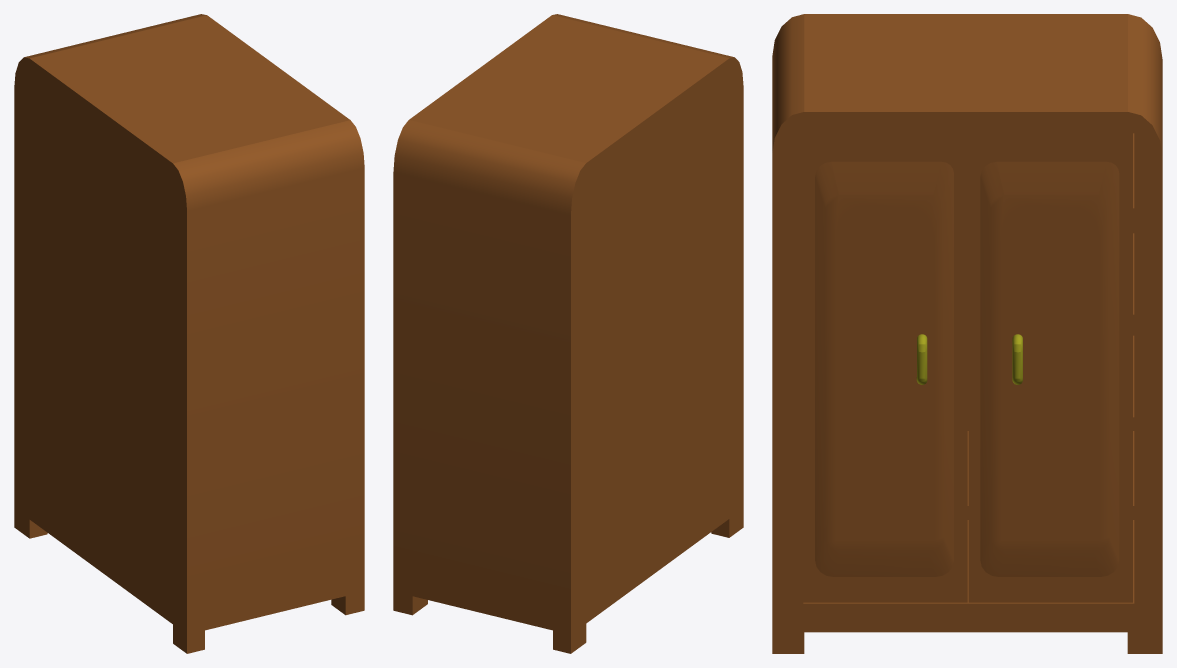
The model's file is Wardrobe.fbx.
3 views of the same model, side by side, from view 1: azimuth 30°, elevation 25°; view 2: azimuth 150°, elevation 25°; view 3: azimuth 270°, elevation 25° (orthographic). The views are drawn at different scales.
Parts seen in each view (by area): view 1: Cube.004; view 2: Cube.004; view 3: Cube.004, Cylinder, Cylinder.001.
Part boxes in pixels (bbox=[...]): Cube.004: bbox=[14, 14, 364, 653]; Cube.004: bbox=[393, 14, 743, 653]; Cube.004: bbox=[772, 14, 1162, 653]; Cylinder: bbox=[803, 133, 967, 602]; Cylinder.001: bbox=[968, 133, 1132, 602].
Size of the model in its own units: 236 by 578 by 377.
